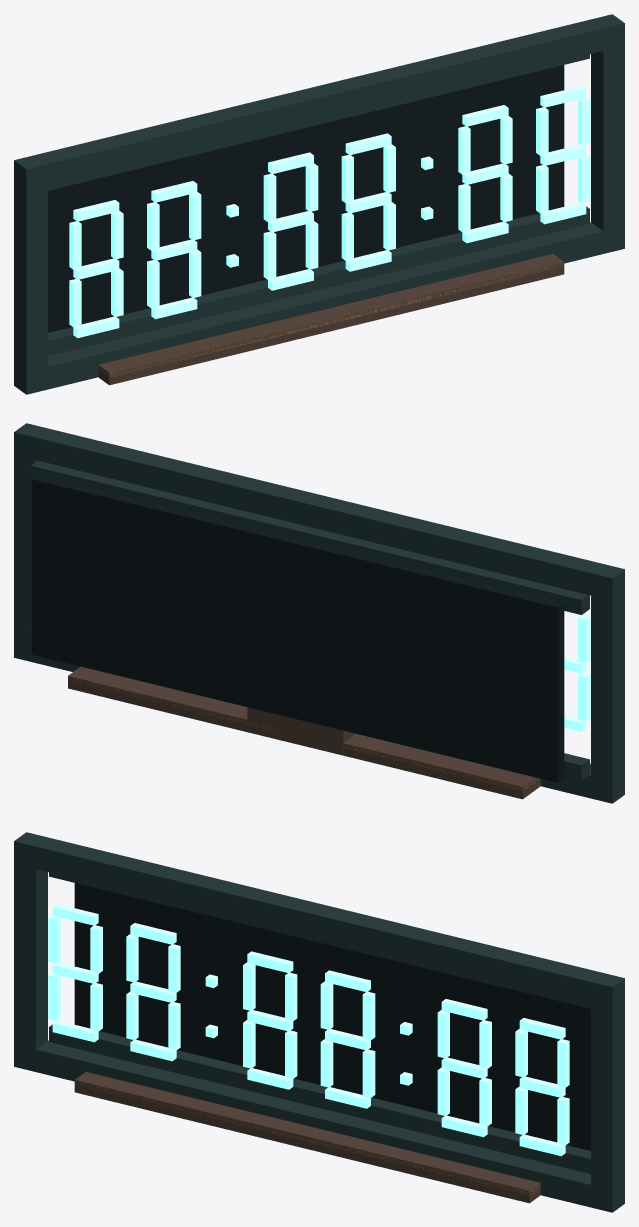
3 renders of one model, top to bottom at view 1: azimuth 30°, elevation 25°; view 2: azimuth 150°, elevation 25°; view 3: azimuth 330°, elevation 25°, orthographic.
Visible parts, largest first — view 1: digital-display-back, digital-frame-top, digital-frame-bottom, clock-base, digital-layer-bottom, digital-frame-left, digital-frame-right, digital-layer-top, clock-base-trim, clock-digit-3-f, clock-digit-3-e, clock-digit-3-b (+39 smaller); view 2: digital-display-back, digital-frame-top, clock-base, digital-layer-top, digital-frame-left, digital-frame-right, digital-frame-bottom, clock-display-support, clock-base-trim, clock-digit-1-f, clock-digit-1-e, digital-layer-bottom; view 3: digital-display-back, digital-frame-top, digital-frame-bottom, clock-base, digital-layer-bottom, digital-frame-right, digital-frame-left, digital-layer-top, clock-base-trim, clock-digit-4-b, clock-digit-4-c, clock-digit-4-f (+39 smaller).
Boxes of the visible parts, x1,y1,x2,y2 form: digital-display-back: (48, 65, 564, 332); digital-frame-top: (14, 14, 624, 191); digital-frame-bottom: (14, 222, 624, 394); clock-base: (98, 254, 564, 385); digital-layer-bottom: (48, 206, 589, 355); digital-frame-left: (14, 183, 47, 372); digital-frame-right: (591, 46, 624, 231); digital-layer-top: (48, 54, 589, 190); clock-base-trim: (98, 262, 563, 377); clock-digit-3-f: (263, 173, 276, 222); clock-digit-3-e: (263, 231, 276, 279); clock-digit-3-b: (305, 163, 318, 211); digital-display-back: (32, 475, 564, 782); digital-frame-top: (14, 423, 624, 600); clock-base: (68, 666, 540, 799); digital-layer-top: (31, 460, 589, 614); digital-frame-left: (591, 592, 624, 781); digital-frame-right: (14, 455, 37, 639); digital-frame-bottom: (14, 635, 624, 803); clock-display-support: (247, 707, 355, 749); clock-base-trim: (68, 676, 538, 790); clock-digit-1-f: (578, 615, 590, 663); clock-digit-1-e: (578, 673, 590, 720); digital-layer-bottom: (31, 630, 589, 780); digital-display-back: (74, 883, 590, 1150); digital-frame-top: (14, 832, 624, 1009); digital-frame-bottom: (14, 1040, 624, 1212); clock-base: (74, 1072, 540, 1203); digital-layer-bottom: (49, 1024, 590, 1173); digital-frame-right: (591, 1001, 624, 1190); digital-frame-left: (14, 864, 47, 1049); digital-layer-top: (49, 872, 590, 1008); clock-base-trim: (75, 1080, 540, 1195); clock-digit-4-b: (362, 991, 375, 1040); clock-digit-4-c: (362, 1049, 375, 1097); clock-digit-4-f: (320, 981, 333, 1029).
Bounding box in the file's own units: 0.5 × 0.18 × 0.06.
